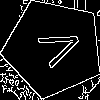V: (28, 23, 85, 73)
